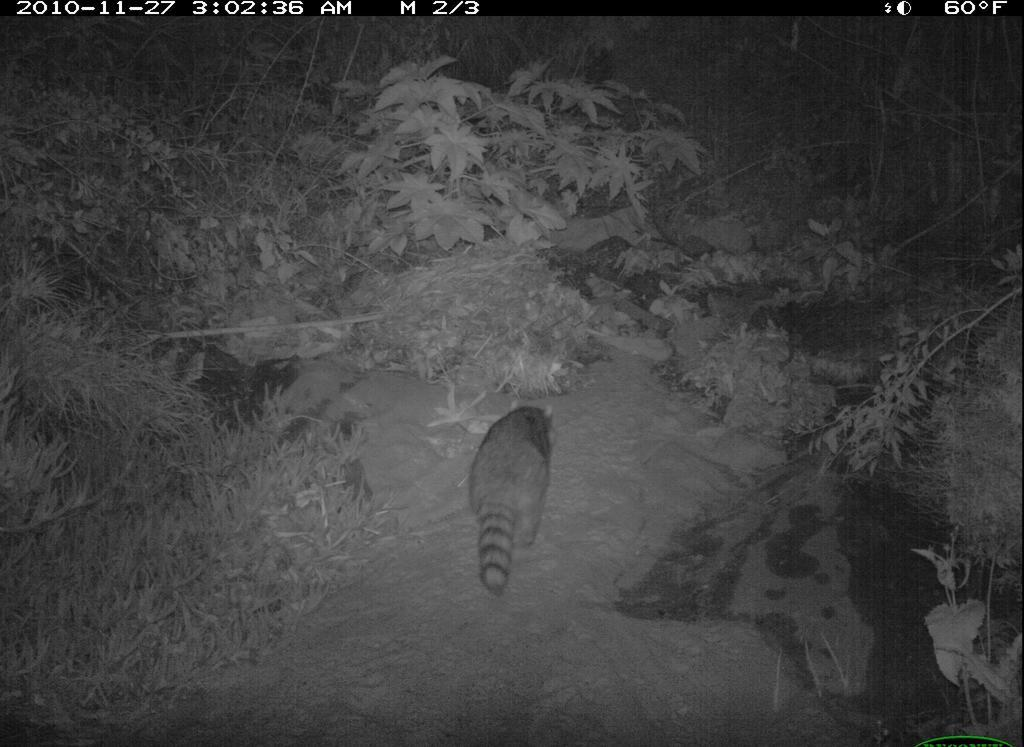raccoon: (461, 385, 573, 607)
